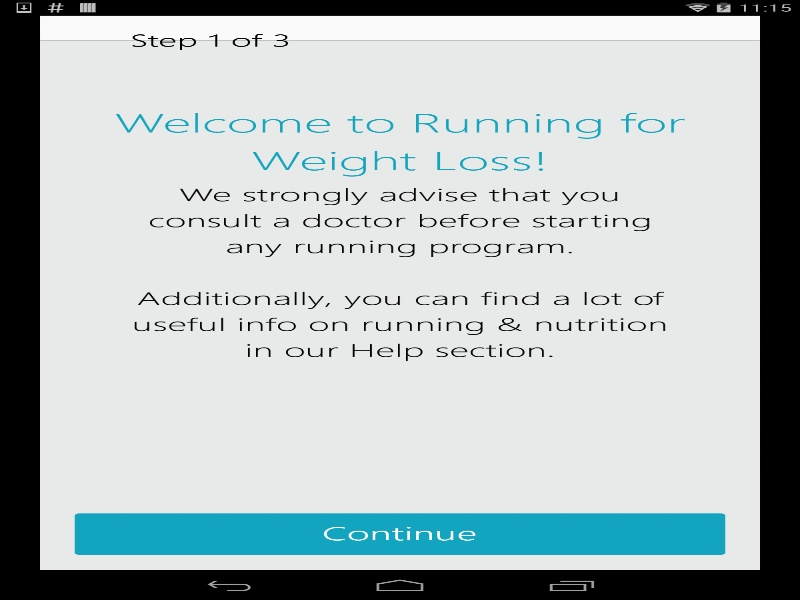Input: (0, 15, 800, 40)
